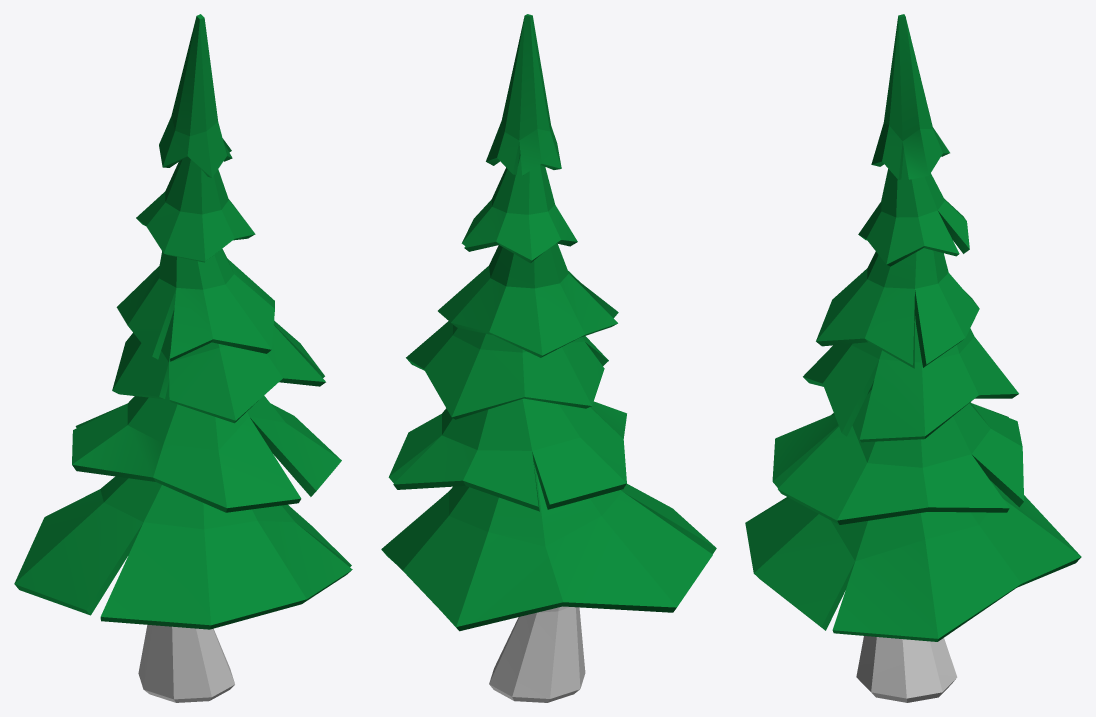
File: lowpolypine2.obj
3 renders of one model, left to right at view 1: azimuth 30°, elevation 25°; view 2: azimuth 150°, elevation 25°; view 3: azimuth 270°, elevation 25°, orthographic.
Parts seen in each view (by area): view 1: Circle, Cylinder; view 2: Circle, Cylinder; view 3: Circle, Cylinder.
Part boxes in pixels (x1=…): Circle: x1=14, y1=14, x2=352, y2=629; Cylinder: x1=138, y1=625, x2=234, y2=702; Circle: x1=381, y1=14, x2=716, y2=631; Cylinder: x1=489, y1=606, x2=585, y2=702; Circle: x1=745, y1=14, x2=1081, y2=641; Cylinder: x1=856, y1=636, x2=957, y2=702.
Bounding box in the file's own units: 7.5 × 16.1 × 7.28.
